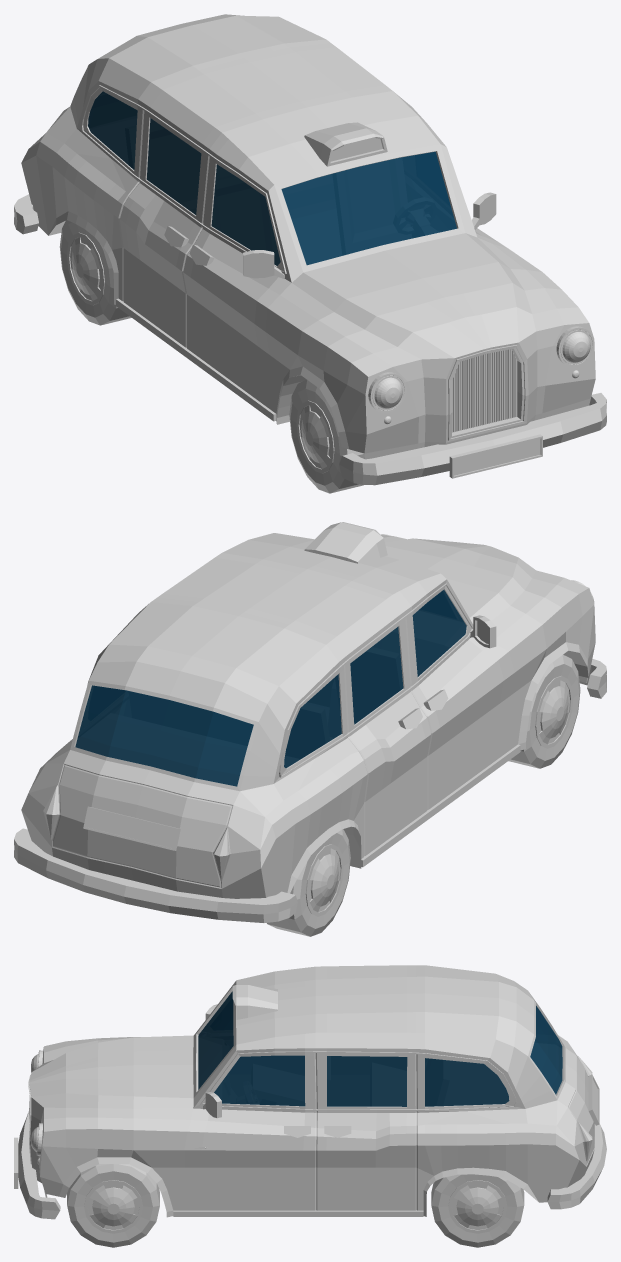
Rendered from taxi_02_fixed_steering_seperate_wheels.fbx.
3 renders of one model, top to bottom at view 1: azimuth 30°, elevation 25°; view 2: azimuth 150°, elevation 25°; view 3: azimuth 270°, elevation 25°, orthographic. The views are drawn at different scales.
Parts seen in each view (by area): view 1: taxi_02_steering_wheel_fixed, taxi_02_glass.001, taxi_02_wheel.005, taxi_02_wheel.004; view 2: taxi_02_steering_wheel_fixed, taxi_02_glass.001, taxi_02_wheel.005, taxi_02_wheel.004; view 3: taxi_02_steering_wheel_fixed, taxi_02_glass.001, taxi_02_wheel.007, taxi_02_wheel.006.
Part boxes in pixels (bbox=[...]): taxi_02_steering_wheel_fixed: bbox=[14, 14, 606, 485]; taxi_02_glass.001: bbox=[88, 91, 456, 265]; taxi_02_wheel.005: bbox=[289, 379, 364, 493]; taxi_02_wheel.004: bbox=[59, 220, 131, 325]; taxi_02_steering_wheel_fixed: bbox=[14, 522, 606, 922]; taxi_02_glass.001: bbox=[75, 590, 466, 786]; taxi_02_wheel.005: bbox=[508, 655, 580, 768]; taxi_02_wheel.004: bbox=[267, 829, 350, 936]; taxi_02_steering_wheel_fixed: bbox=[14, 965, 606, 1219]; taxi_02_glass.001: bbox=[198, 991, 562, 1106]; taxi_02_wheel.007: bbox=[67, 1164, 159, 1247]; taxi_02_wheel.006: bbox=[431, 1174, 524, 1247].
Size of the model in its own units: 255 by 238 by 605.
